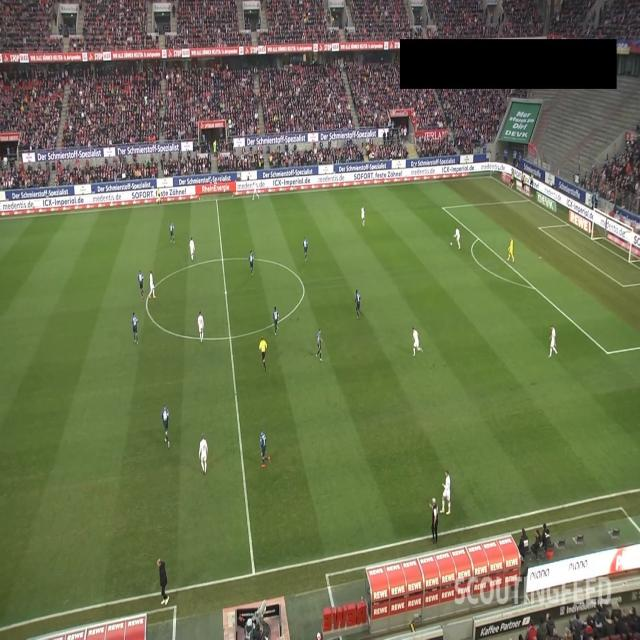ball: (450, 241, 453, 246)
